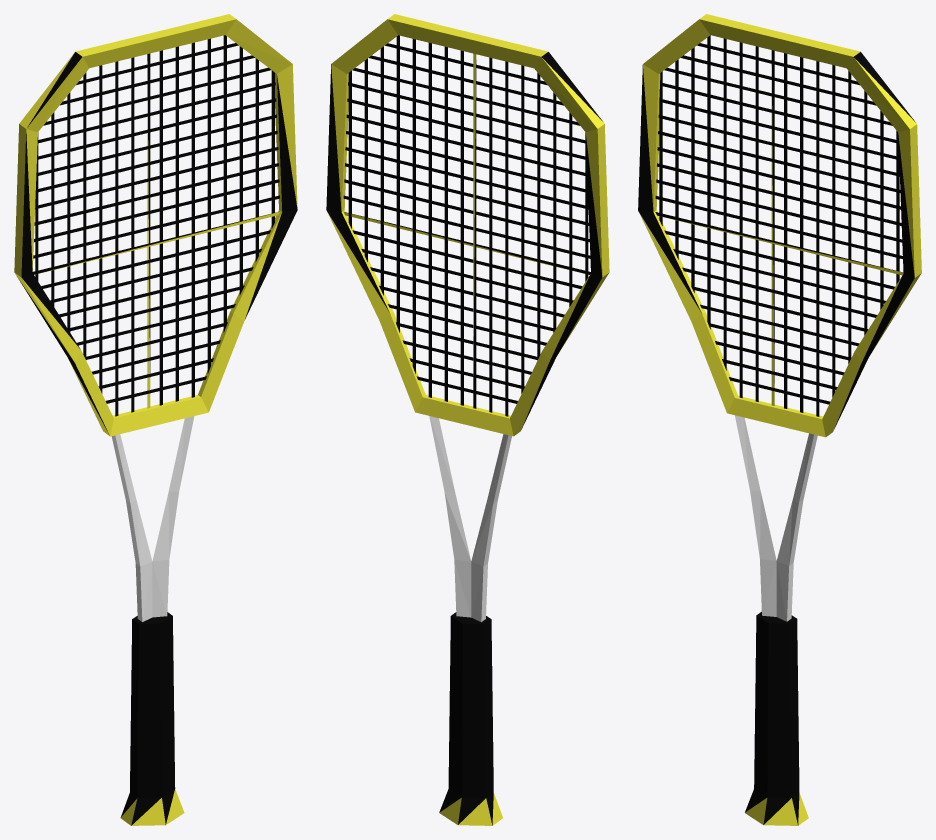
File: Squash_Racket_2.fbx
The picture shows the model from 3 angles, left to right: view 1: azimuth 30°, elevation 25°; view 2: azimuth 150°, elevation 25°; view 3: azimuth 330°, elevation 25°; orthographic projection.
Visible parts, largest first — view 1: Squash_Racket_2; view 2: Squash_Racket_2; view 3: Squash_Racket_2.
Boxes of the visible parts, x1,y1,x2,y2 form: Squash_Racket_2: (14, 14, 297, 825); Squash_Racket_2: (326, 14, 609, 825); Squash_Racket_2: (638, 14, 921, 825).
Size of the model in its own units: 23.21 by 62.6 by 3.86.
